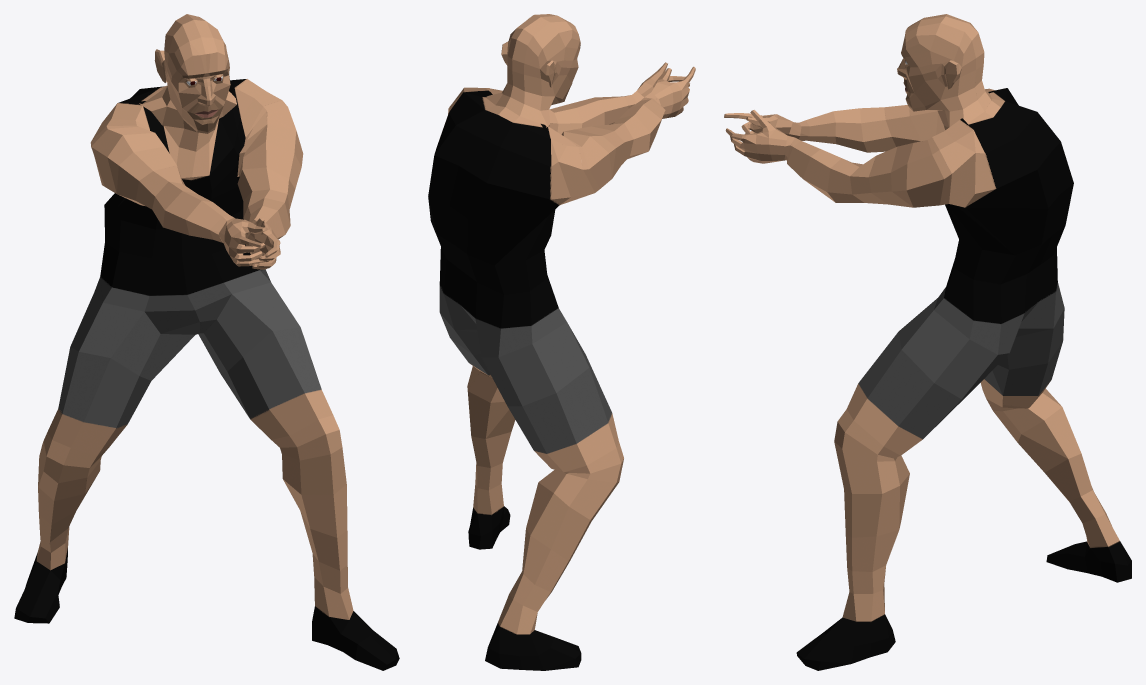
File: PlayerShoot(24).obj
3 views of the same model, side by side, from view 1: azimuth 30°, elevation 25°; view 2: azimuth 150°, elevation 25°; view 3: azimuth 270°, elevation 25° (orthographic). The views are drawn at different scales.
Visible parts, largest first — view 1: Plane002; view 2: Plane002; view 3: Plane002.
Boxes of the visible parts, box(x1,y1,x2,y2) form: Plane002: box(14, 14, 399, 670); Plane002: box(428, 14, 695, 670); Plane002: box(724, 14, 1131, 670).
Size of the model in its own units: 714 by 1663 by 1041.
